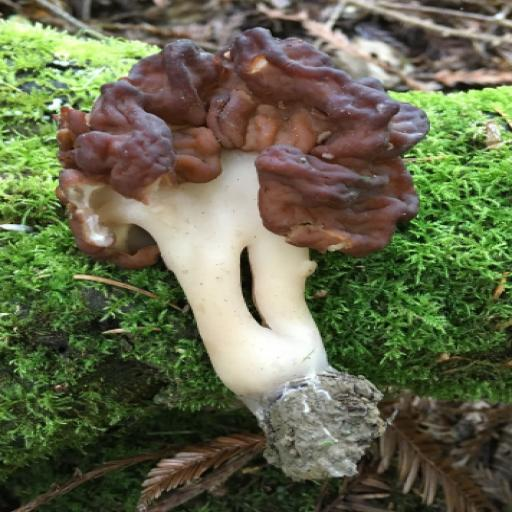False Morel: (19, 0, 512, 485)
